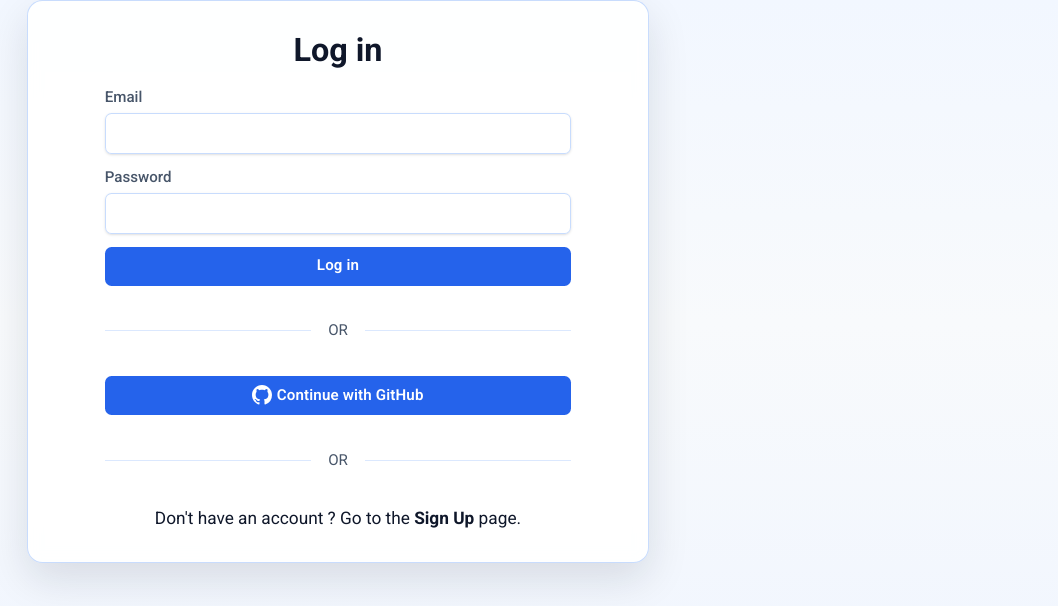
it: LogIn Form Submit › shows error message when network request throws
Type "existing@user.com" into the field labelled "Email" at (338, 134), box [105,113,571,154]
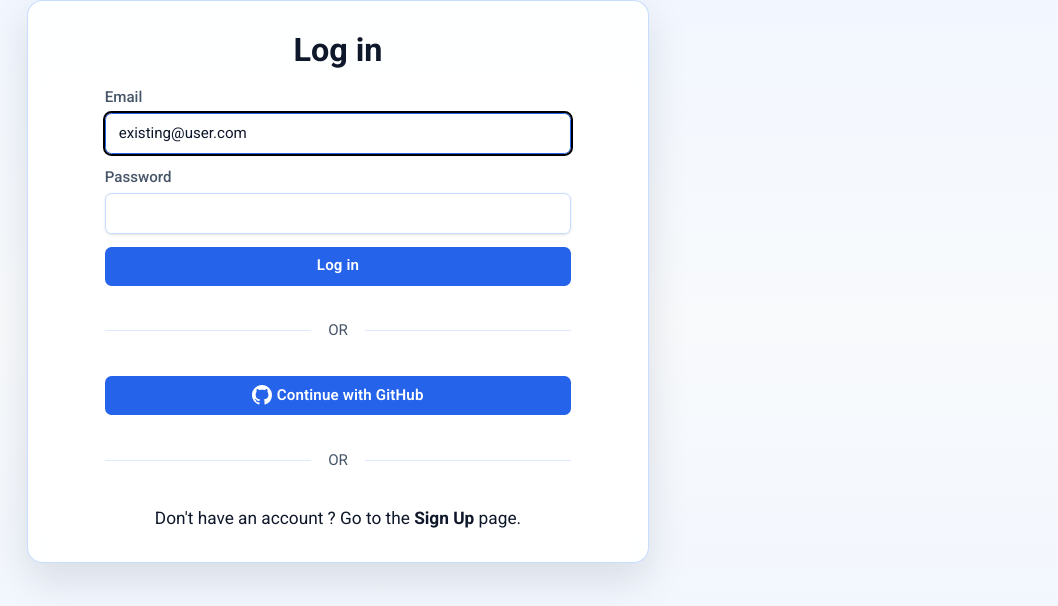
Type "Password123!" into the password field labelled "Password" at (338, 213), box [105,193,571,234]
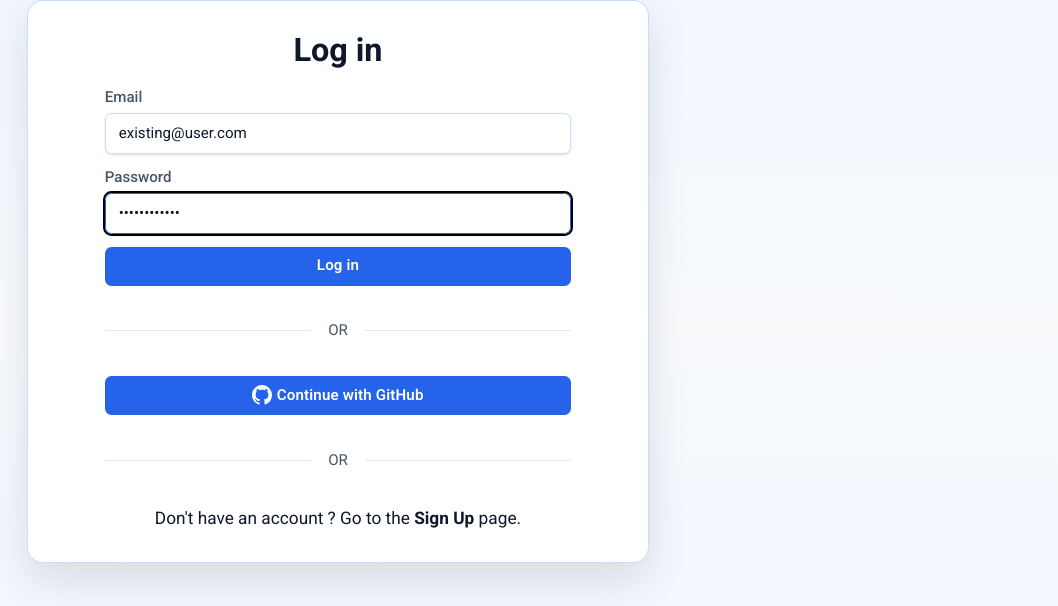
Click the button "Log in" at (338, 266), box [105,247,571,286]
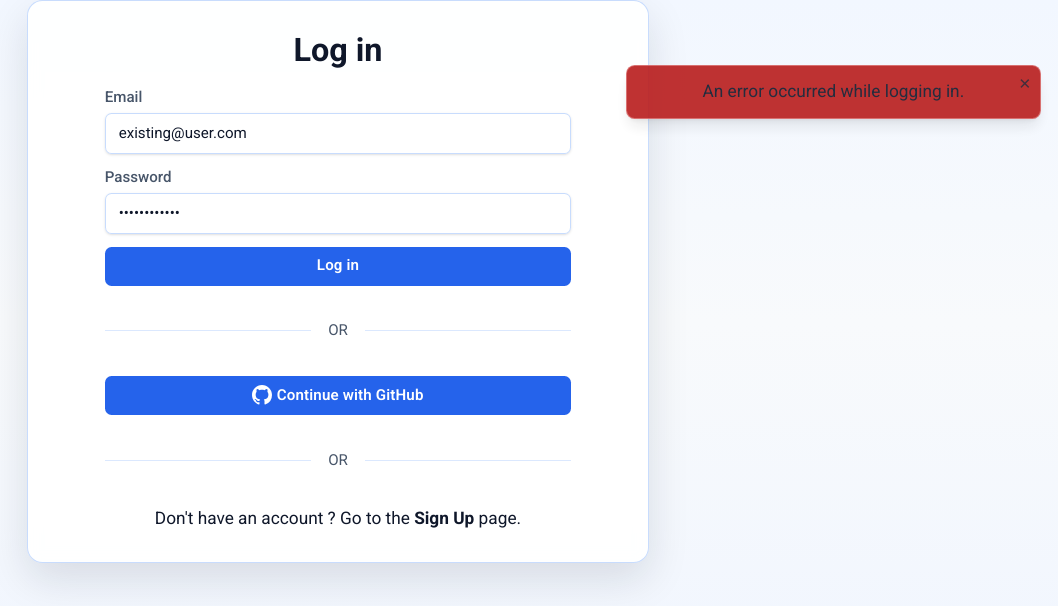
Now the text "An error occurred while logging in." is shown, box [702,79,964,105]
